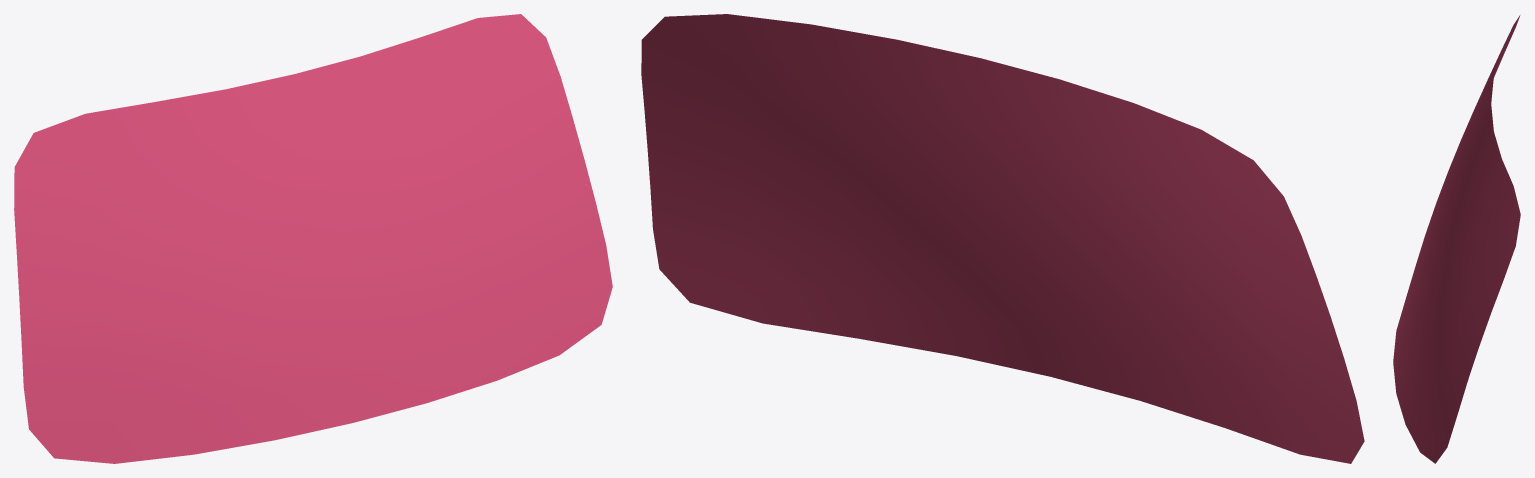
File: HelloKitty_mouth.glb
The picture shows the model from 3 angles, left to right: view 1: azimuth 30°, elevation 25°; view 2: azimuth 150°, elevation 25°; view 3: azimuth 270°, elevation 25°; orthographic projection. The views are drawn at different scales.
Visible parts, largest first — view 1: Cat_Body_M_Cat_Body_0.001; view 2: Cat_Body_M_Cat_Body_0.001; view 3: Cat_Body_M_Cat_Body_0.001.
Boxes of the visible parts, left/top/right/bottom form: Cat_Body_M_Cat_Body_0.001: left=14, top=14, right=612, bottom=463; Cat_Body_M_Cat_Body_0.001: left=641, top=14, right=1364, bottom=463; Cat_Body_M_Cat_Body_0.001: left=1393, top=15, right=1520, bottom=463.
Bounding box in the file's own units: 0.1148 × 0.0576 × 0.0258.
